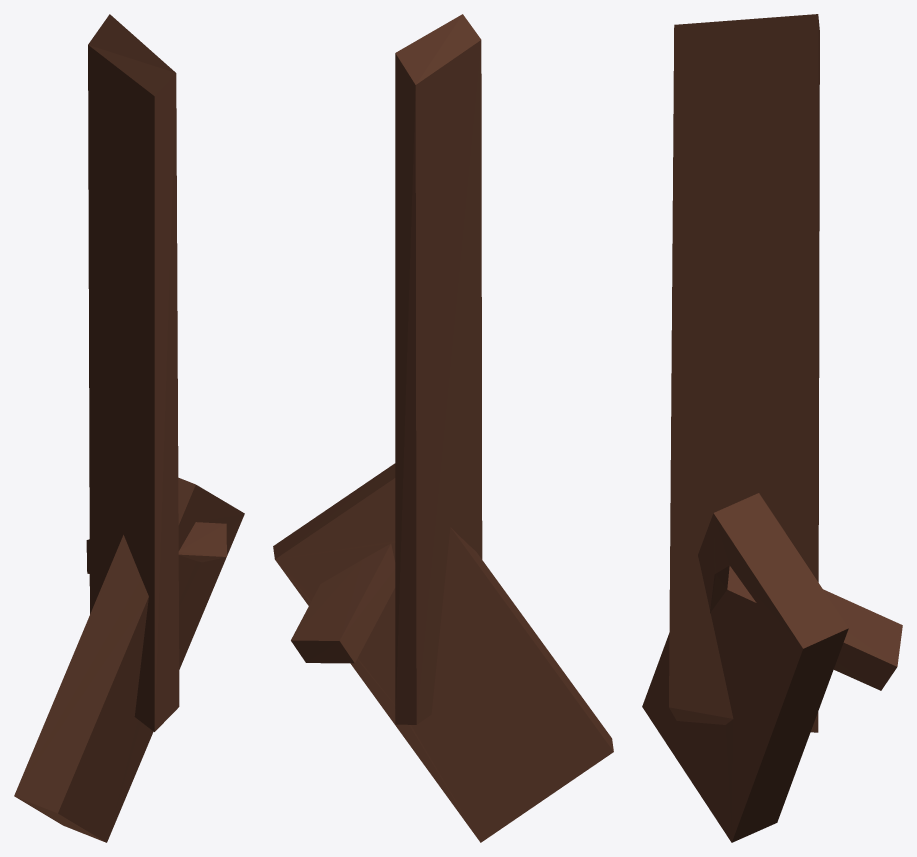
The picture shows the model from 3 angles, left to right: view 1: azimuth 30°, elevation 25°; view 2: azimuth 150°, elevation 25°; view 3: azimuth 270°, elevation 25°; orthographic projection. The views are drawn at different scales.
Visible parts, largest first — view 1: 082_Cube.339; view 2: 082_Cube.339; view 3: 082_Cube.339.
Part boxes in pixels (left/top/right/bottom): 082_Cube.339: left=14, top=14, right=244, bottom=842; 082_Cube.339: left=273, top=14, right=613, bottom=842; 082_Cube.339: left=642, top=14, right=902, bottom=842.
Size of the model in its own units: 5.52 by 14.62 by 4.06.
